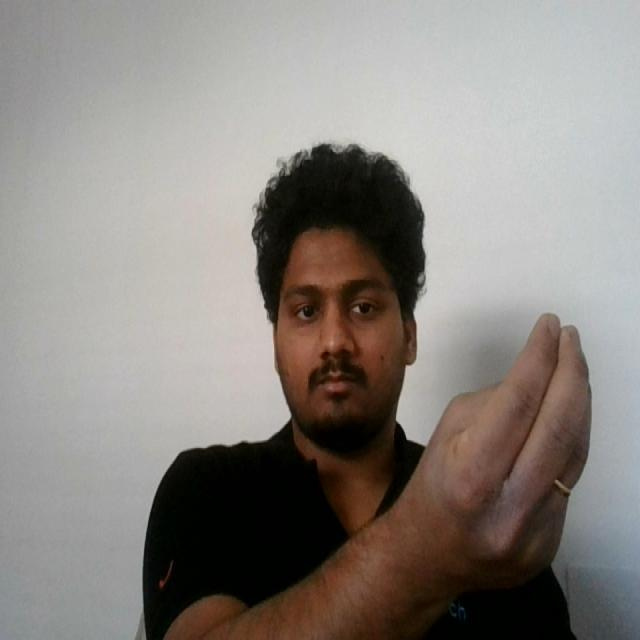Please: (409, 306, 600, 621)
